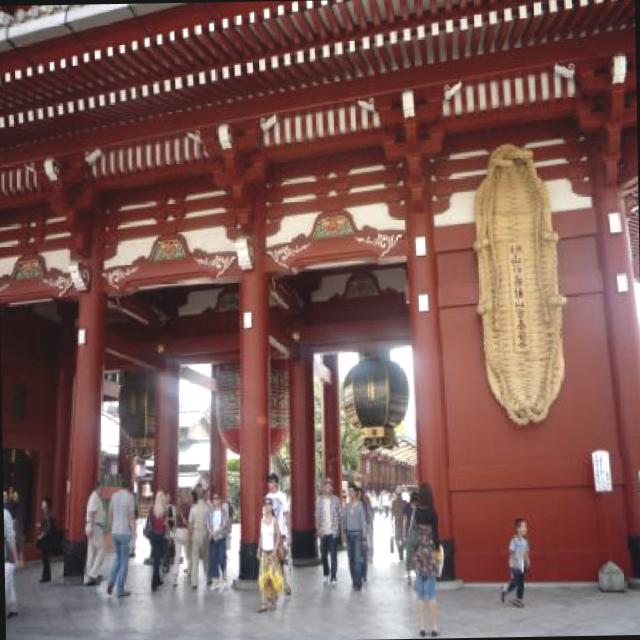Person: (4, 465, 445, 640), (181, 494, 218, 598), (498, 518, 532, 610)
